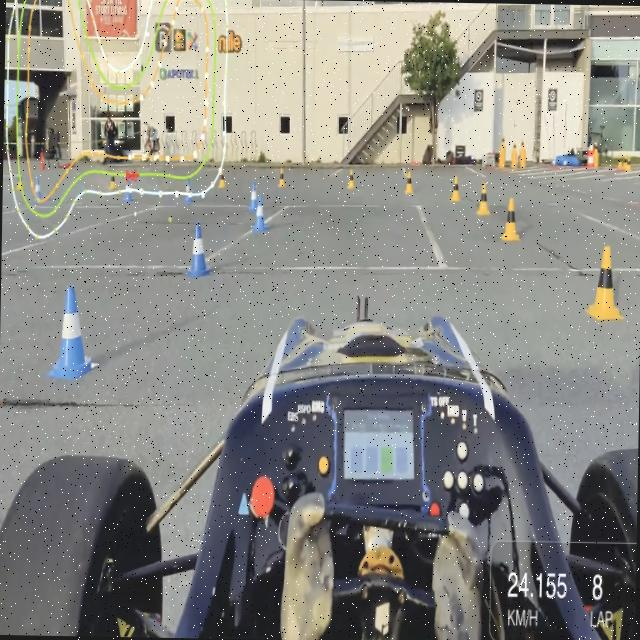blue_cone: (49, 283, 100, 377), (186, 220, 212, 278), (251, 195, 268, 233), (247, 182, 260, 212), (121, 175, 133, 202), (32, 175, 44, 201), (184, 176, 194, 202)
large_orange_cone: (587, 141, 595, 167)
yellow_cone: (585, 245, 625, 320), (500, 197, 520, 240), (476, 183, 491, 214), (451, 175, 462, 203), (404, 170, 414, 194), (278, 166, 286, 188), (108, 169, 116, 191), (218, 170, 226, 190), (347, 168, 355, 188)
